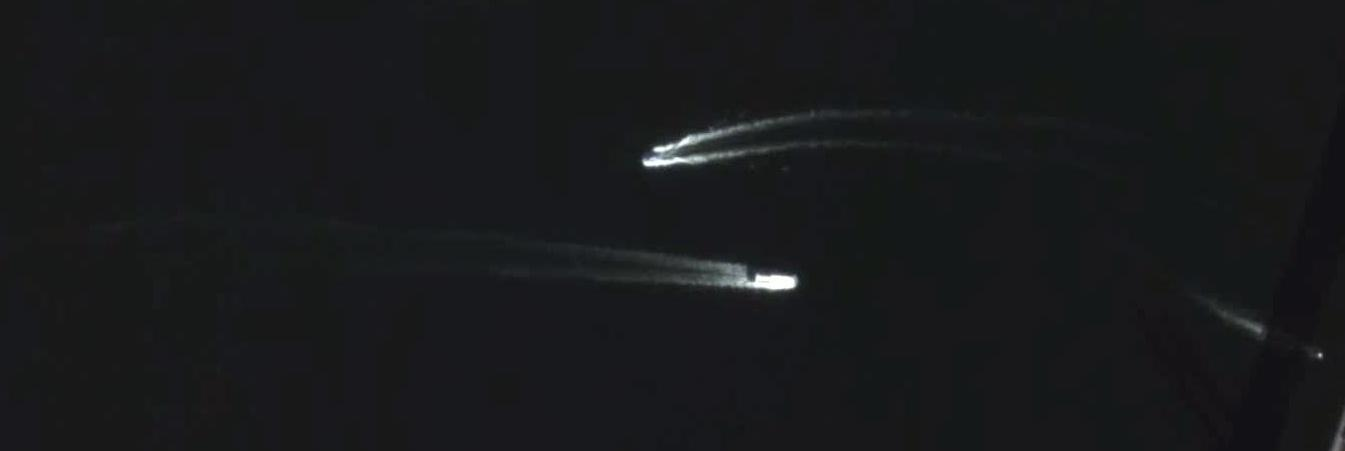person: (755, 273, 799, 290), (1293, 344, 1326, 362), (643, 151, 667, 160)
